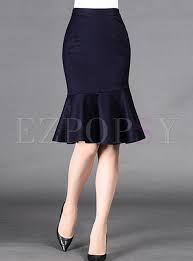S_skirt: (50, 7, 156, 153)
